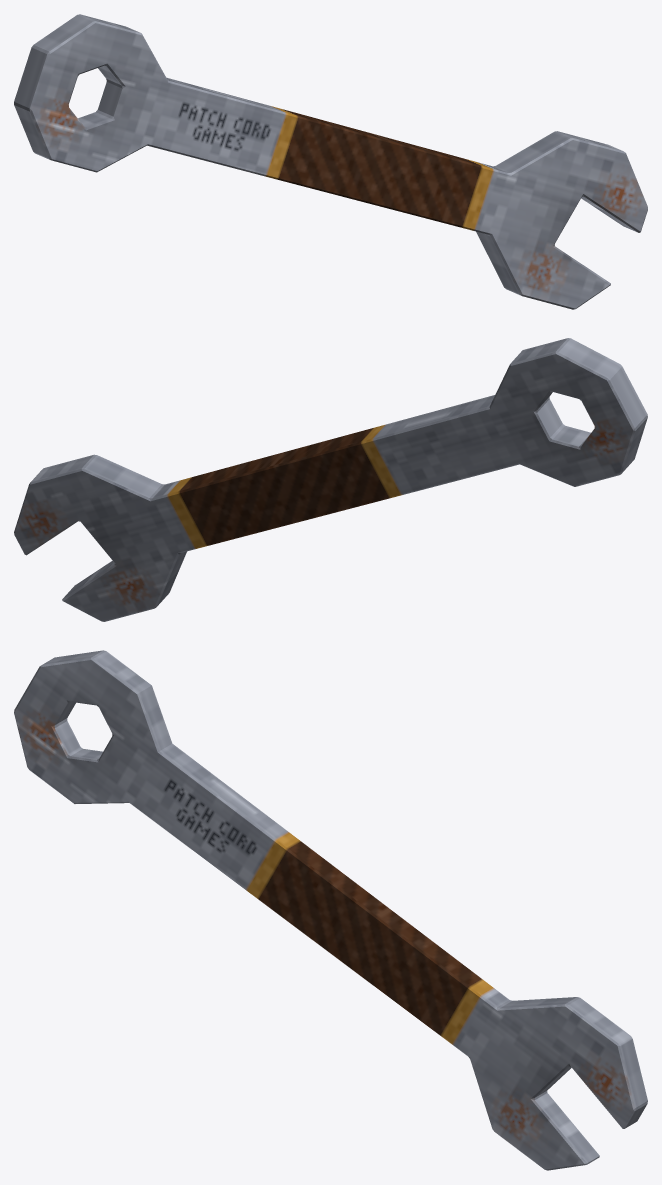
File: A_Wrench_Idle.fbx
3 views of the same model, one above another, from view 1: azimuth 30°, elevation 25°; view 2: azimuth 150°, elevation 25°; view 3: azimuth 330°, elevation 25° (orthographic).
Visible parts, largest first — view 1: Wrench; view 2: Wrench; view 3: Wrench.
Boxes of the visible parts, x1,y1,x2,y2 form: Wrench: (14,14,647,309); Wrench: (14,338,647,621); Wrench: (14,650,647,1170).
Size of the model in its own units: 19.98 by 1.52 by 12.17.
Materials: 1 (1 with a texture image).
